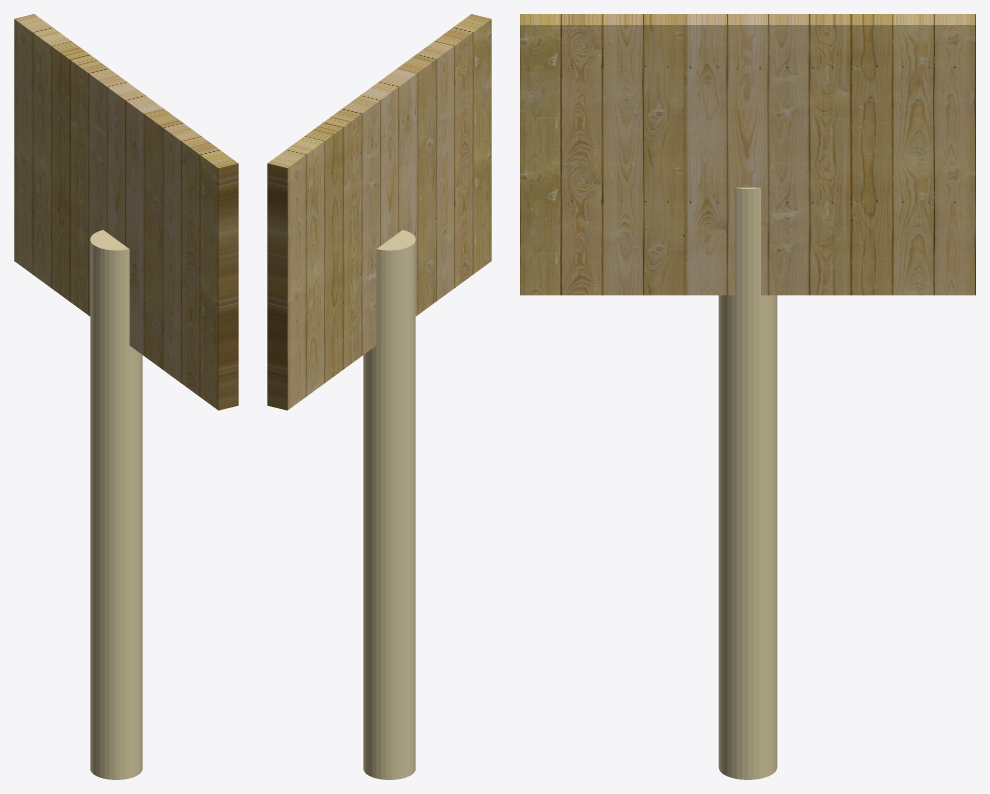
The model's file is roadsign2.glb.
The picture shows the model from 3 angles, left to right: view 1: azimuth 30°, elevation 25°; view 2: azimuth 150°, elevation 25°; view 3: azimuth 270°, elevation 25°; orthographic projection. The views are drawn at different scales.
Visible parts, largest first — view 1: roadsign2; view 2: roadsign2; view 3: roadsign2.
Part boxes in pixels (left/top/right/bottom): roadsign2: left=14, top=14, right=238, bottom=779; roadsign2: left=267, top=14, right=491, bottom=779; roadsign2: left=520, top=14, right=975, bottom=779.
Bounding box in the file's own units: 0.6005 × 8.54 × 4.68.
Materials: 2 (1 with a texture image).
